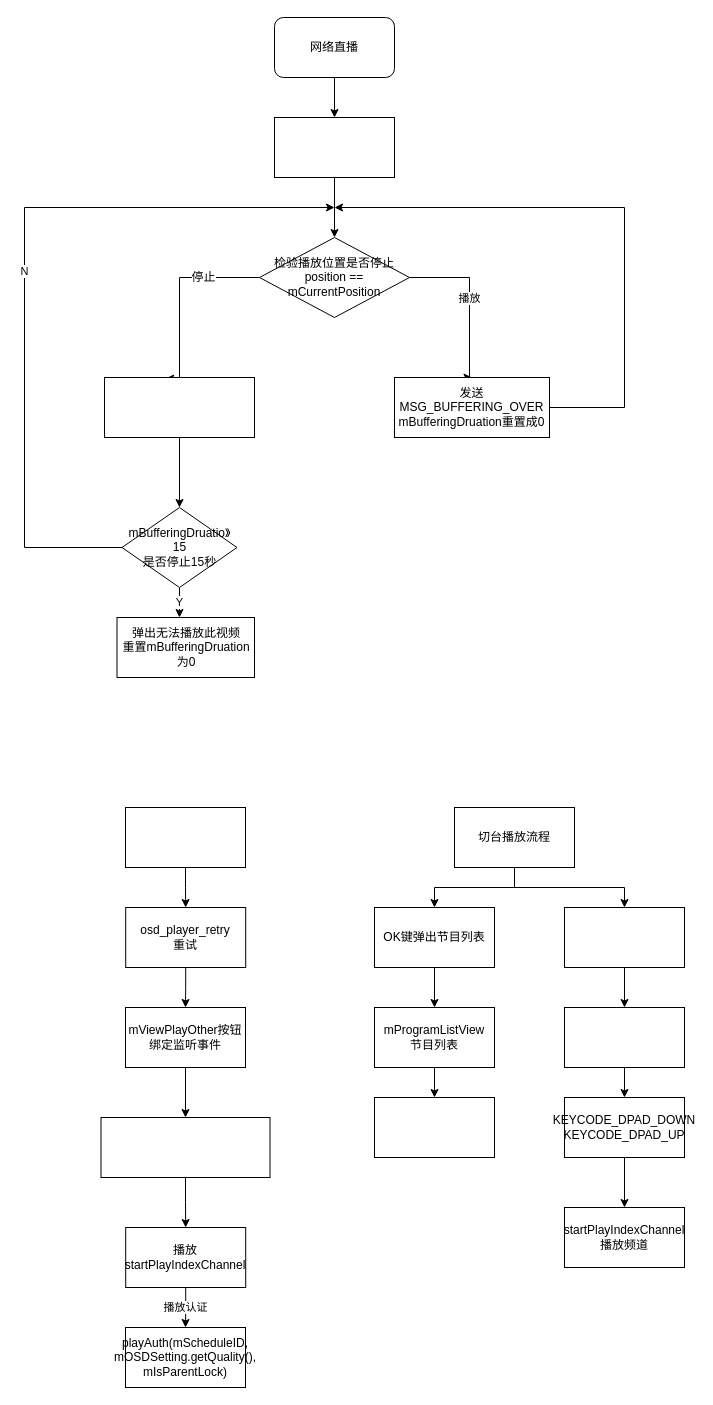
Image size: 713x1405. Some labels were removed from this diagram. Each missing label, with the box of its shape:
dispatchKeyEvent 按键分发: (564, 1006, 684, 1068)
OnPreparedListener 直播准备完毕- 发送MSG_CHECK_BUFFER: (274, 116, 394, 178)
startPlayIndexChannel: (374, 1096, 494, 1158)
上下切台: (564, 906, 684, 968)
发送MSG_BUFFERING mBufferingDruation增加1: (104, 376, 254, 438)
发送OSDConst.MSG_TRY_AGAIN: (100, 1116, 270, 1178)
重试播放流程: (124, 806, 246, 868)
